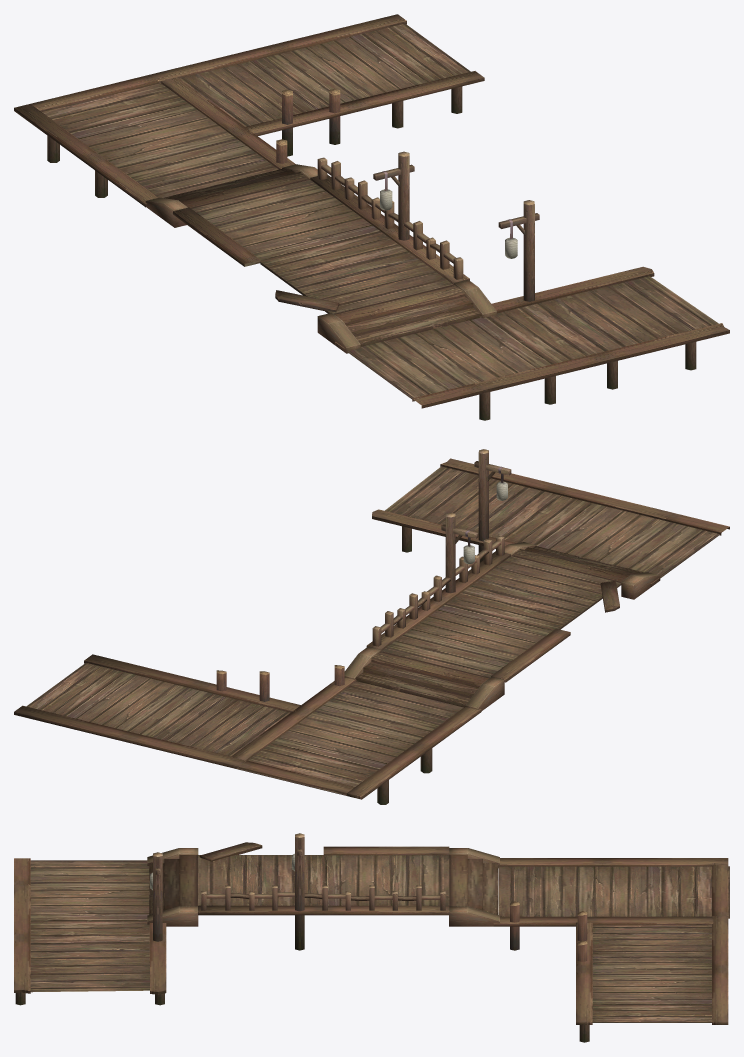
Rendered from C5_Board_01.FBX.
The picture shows the model from 3 angles, top to bottom: view 1: azimuth 30°, elevation 25°; view 2: azimuth 150°, elevation 25°; view 3: azimuth 270°, elevation 25°; orthographic projection. The views are drawn at different scales.
Visible parts, largest first — view 1: C5_board_01, C5_board_02; view 2: C5_board_01, C5_board_02; view 3: C5_board_01, C5_board_02.
Boxes of the visible parts, x1,y1,x2,y2 form: C5_board_01: (42,23,718,400); C5_board_02: (14,14,729,420); C5_board_01: (26,466,720,795); C5_board_02: (14,449,729,804); C5_board_01: (30,855,729,1022); C5_board_02: (14,833,728,1042).
Size of the model in its own units: 3223 by 1003 by 5781.
